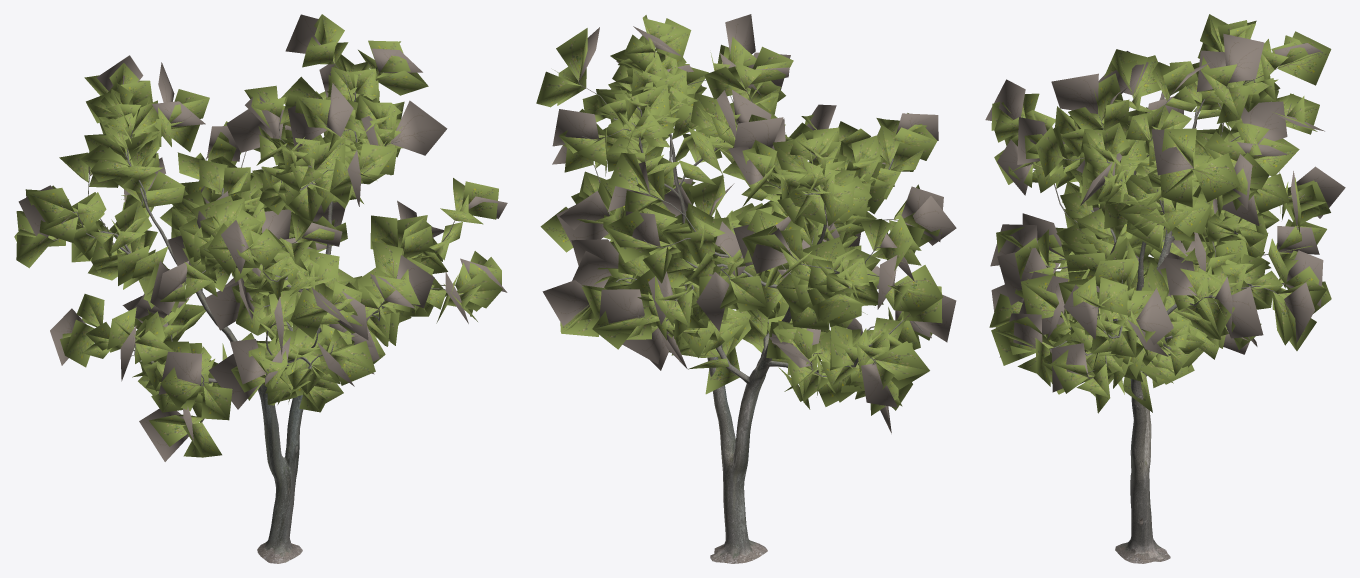
Rendered from sm_Tree_01_01.fbx.
3 views of the same model, side by side, from view 1: azimuth 30°, elevation 25°; view 2: azimuth 150°, elevation 25°; view 3: azimuth 270°, elevation 25° (orthographic). The views are drawn at different scales.
Visible parts, largest first — view 1: sm_Tree_01_01_LOD0; view 2: sm_Tree_01_01_LOD0; view 3: sm_Tree_01_01_LOD0.
Part boxes in pixels (<box>): sm_Tree_01_01_LOD0: <box>14,14,507,563</box>; sm_Tree_01_01_LOD0: <box>536,14,956,563</box>; sm_Tree_01_01_LOD0: <box>985,14,1345,563</box>.
Size of the model in its own units: 1048 by 732 by 1178.
